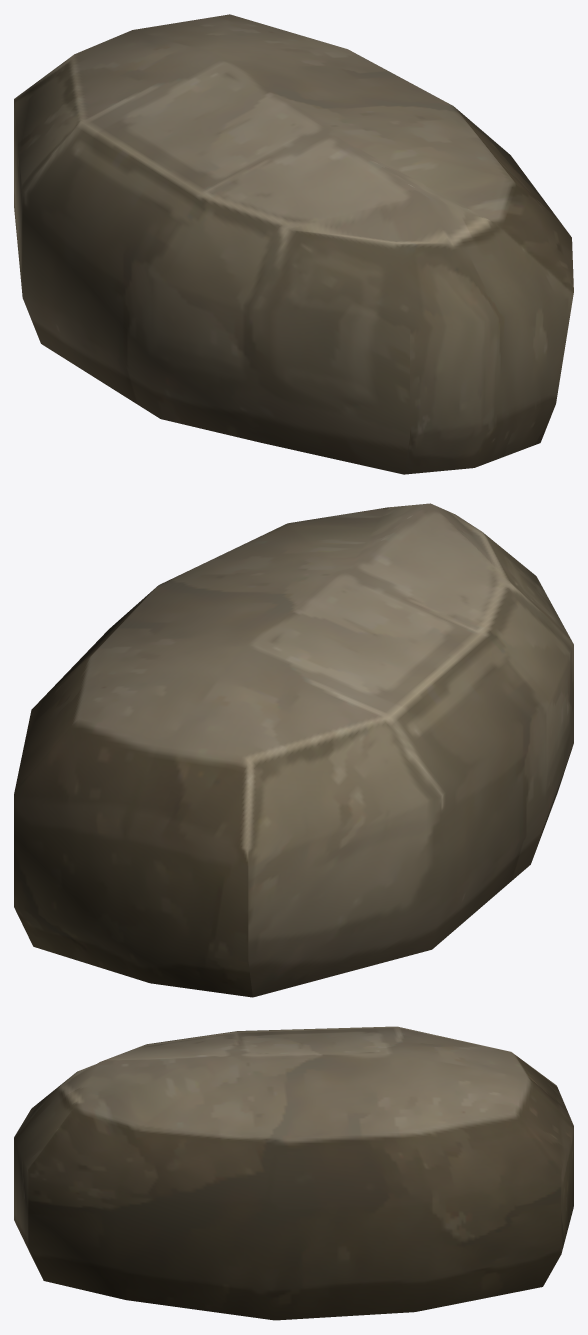
The model's file is rock3Mesh.FBX.
The picture shows the model from 3 angles, top to bottom: view 1: azimuth 30°, elevation 25°; view 2: azimuth 150°, elevation 25°; view 3: azimuth 270°, elevation 25°; orthographic projection. The views are drawn at different scales.
Visible parts, largest first — view 1: rock3; view 2: rock3; view 3: rock3.
Part boxes in pixels (x1,y1,x2,y2): rock3: (14, 14, 573, 474); rock3: (14, 503, 573, 997); rock3: (14, 1026, 573, 1320).
Size of the model in its own units: 782 by 452 by 1205.
